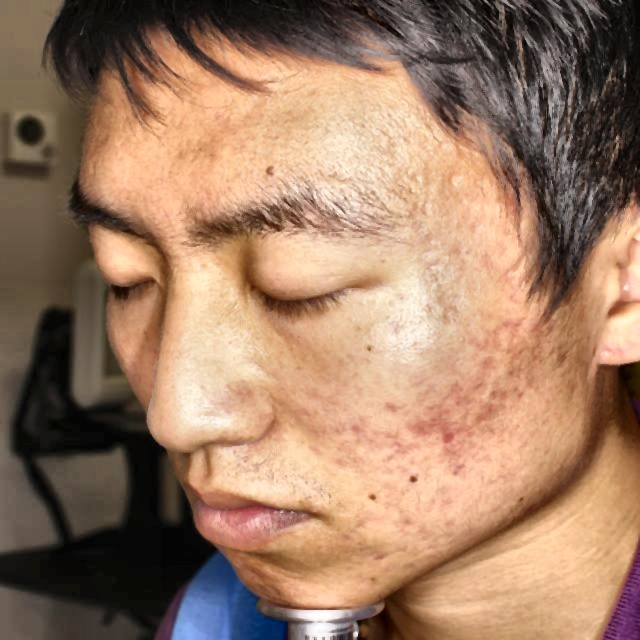pustule: (430, 409, 460, 456), (402, 415, 432, 444), (346, 411, 369, 447), (371, 392, 399, 420), (475, 401, 500, 428), (251, 572, 278, 596)
